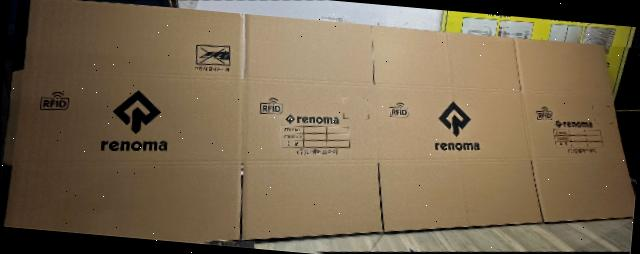box: (4, 0, 634, 243)
